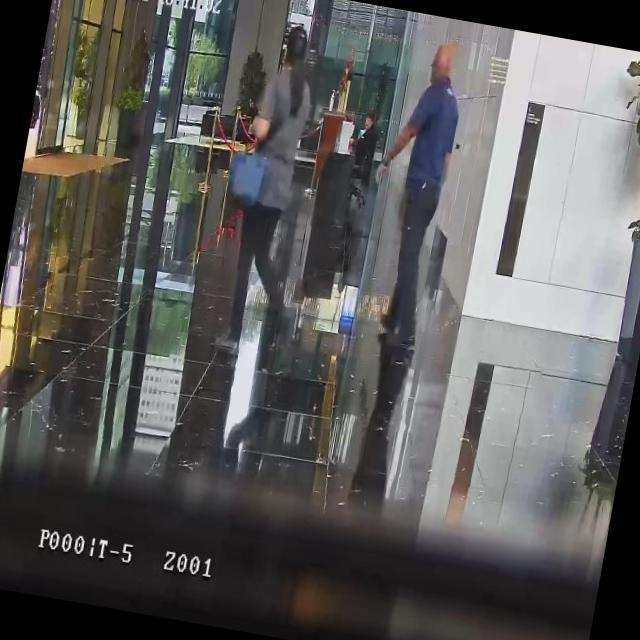person: (346, 33, 472, 356), (214, 21, 324, 342), (348, 109, 377, 166)
